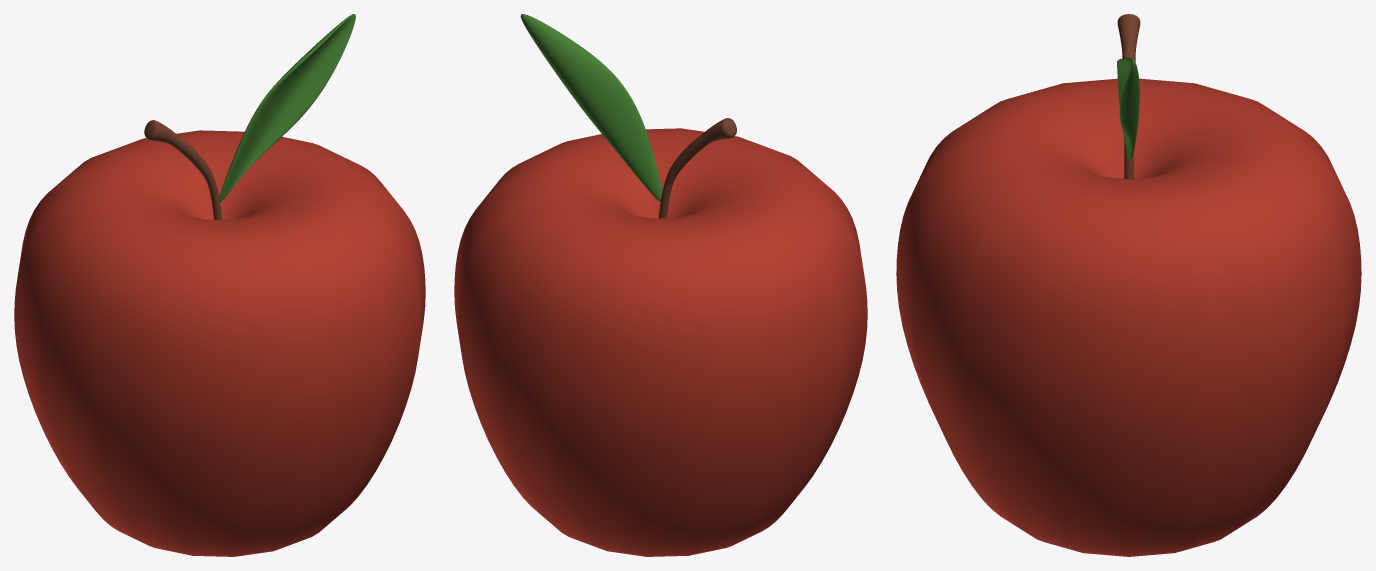
The model's file is apple (3).fbx.
3 renders of one model, left to right at view 1: azimuth 30°, elevation 25°; view 2: azimuth 150°, elevation 25°; view 3: azimuth 270°, elevation 25°, orthographic. The views are drawn at different scales.
Visible parts, largest first — view 1: Vert.014, Plane.006, Vert.015; view 2: Vert.014, Plane.006, Vert.015; view 3: Vert.014, Plane.006, Vert.015.
Boxes of the visible parts, x1,y1,x2,y2 form: Vert.014: [14, 130, 425, 556]; Plane.006: [219, 14, 355, 202]; Vert.015: [144, 120, 222, 219]; Vert.014: [454, 128, 867, 556]; Plane.006: [520, 14, 662, 201]; Vert.015: [658, 118, 736, 218]; Vert.014: [896, 78, 1361, 556]; Plane.006: [1117, 57, 1139, 160]; Vert.015: [1117, 14, 1140, 179].
Bounding box in the file's own units: 43.83 × 55 × 43.83.
